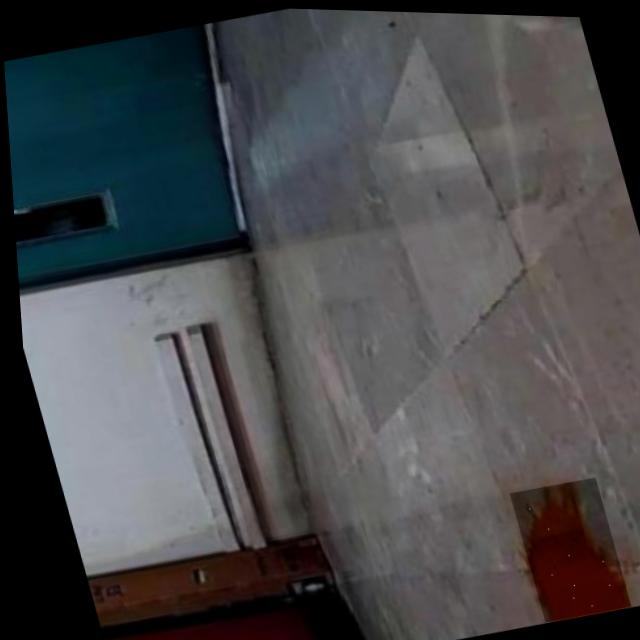spillage: (519, 479, 621, 619)
